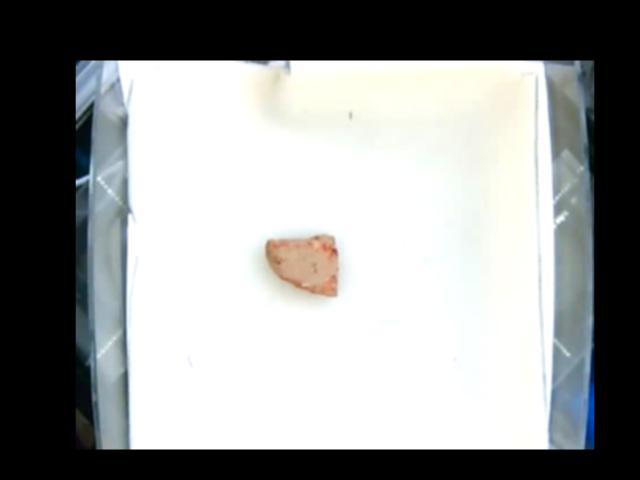Brisk: (264, 235, 337, 297)
